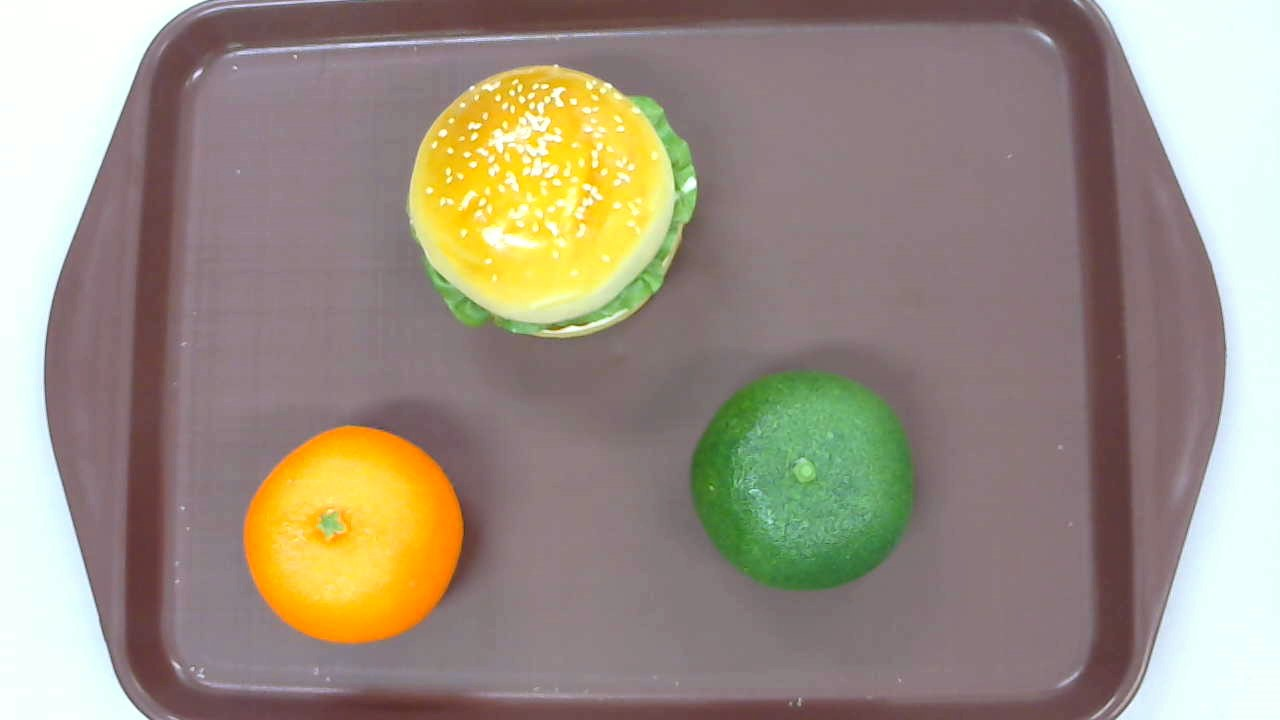green orange: (691, 366, 914, 589)
hamburger: (406, 64, 697, 340)
orange: (243, 424, 463, 644)
